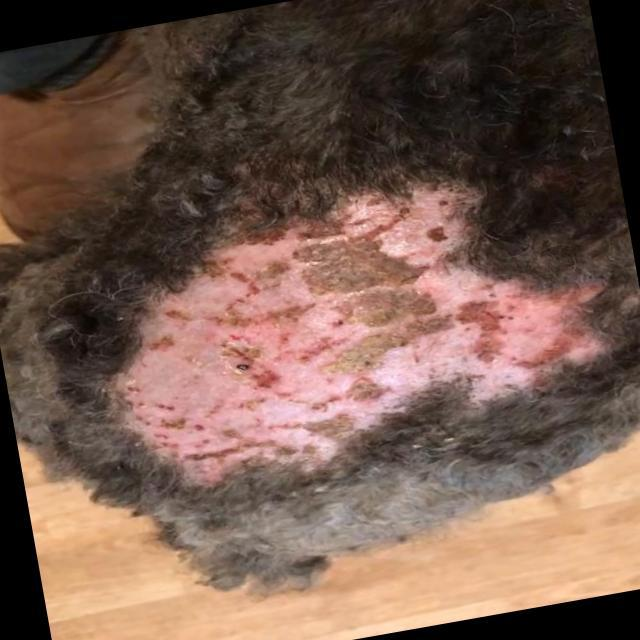allergic dermatitis: (90, 178, 606, 476)
